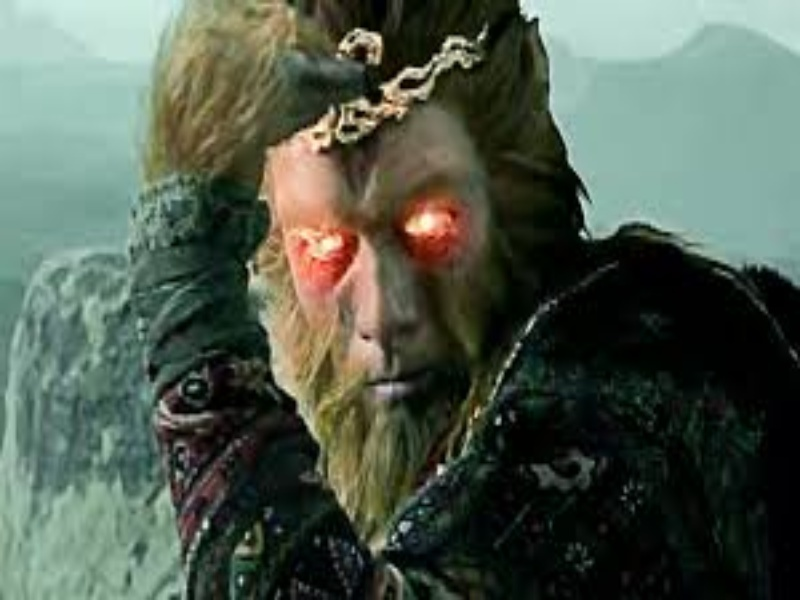monkey: (87, 3, 762, 578)
